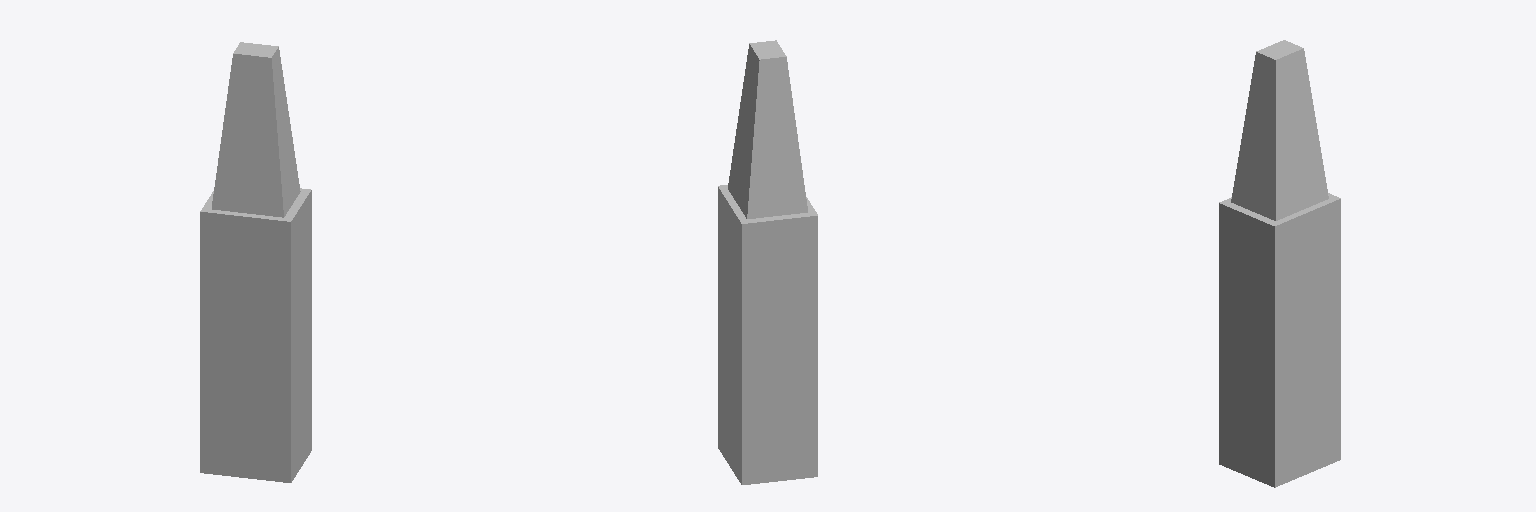
File: buildings009 (218).obj
The picture shows the model from 3 angles: view 1: azimuth 30°, elevation 25°; view 2: azimuth 150°, elevation 25°; view 3: azimuth 270°, elevation 25°; orthographic projection.
Parts seen in each view (by area): view 1: buildings009 (218); view 2: buildings009 (218); view 3: buildings009 (218).
Part boxes in pixels (x1,y1,x2,y2): buildings009 (218): (200, 42, 311, 482); buildings009 (218): (718, 40, 817, 484); buildings009 (218): (1219, 40, 1340, 487).
Bounding box in the file's own units: 13.42 × 49.76 × 13.42.